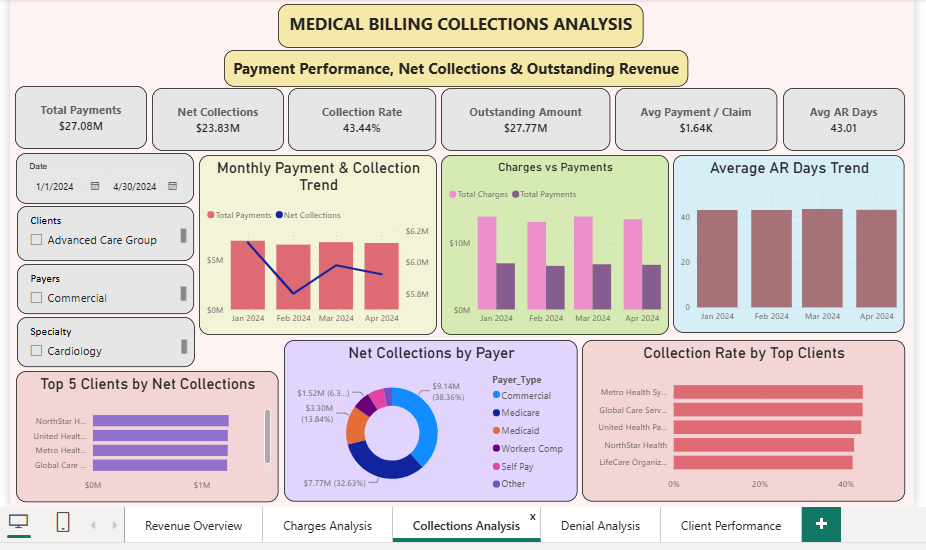

What the dashboard file says about the page in this screenshot:
{"tool":"powerbi","page":{"name":"Collections Analysis","canvas":[1280,720],"ordinal":2},"visuals":[{"type":"textbox","box":[380.2,7.2,518.4,61.9],"z":0},{"type":"textbox","box":[303.8,72,658.1,51.8],"z":1000},{"type":"cardVisual","fields":{"Data":["_Measures.Total Payments"]},"box":[7.2,123.8,187.2,89.3],"z":2000},{"type":"cardVisual","fields":{"Data":["_Measures.Net Collections"]},"box":[201.6,126.7,187.2,89.3],"z":3000},{"type":"cardVisual","fields":{"Data":["_Measures.Collection Rate %"]},"box":[394.6,126.7,210.2,89.3],"z":4000},{"type":"cardVisual","fields":{"Data":["_Measures.Gross Outstanding"]},"box":[610.6,126.7,240.5,89.3],"z":5000},{"type":"cardVisual","fields":{"Data":["_Measures.Average Payment per Claim"]},"box":[856.8,126.7,230.4,89.3],"z":6000},{"type":"cardVisual","fields":{"Data":["_Measures.Avg AR Days"]},"box":[1095.8,126.7,172.8,89.3],"z":7000},{"type":"slicer","fields":{"Values":["Dim_Date.Year_Month"]},"box":[8.6,218.9,252,72],"z":8000},{"type":"slicer","fields":{"Values":["Dim_Client.Client_Name"]},"box":[10.1,293.8,250.6,77.8],"z":9000},{"type":"slicer","fields":{"Values":["Dim_Payer.Payer_Type"]},"box":[10.1,375.8,250.6,70.6],"z":10000},{"type":"slicer","fields":{"Values":["Dim_Specialty.Specialty"]},"box":[10.1,450.7,252,70.6],"z":11000},{"type":"lineClusteredColumnComboChart","title":"Monthly Payment & Collection Trend","fields":{"Category":["Dim_Date.Year_Month"],"Y":["_Measures.Total Payments"],"Y2":["_Measures.Net Collections"]},"box":[267.8,221.8,337,254.9],"z":12000},{"type":"clusteredColumnChart","title":"Charges vs Payments","fields":{"Category":["Dim_Date.Year_Month"],"Y":["_Measures.Total Charges","_Measures.Total Payments"]},"box":[610.6,221.8,322.6,254.9],"z":13000},{"type":"donutChart","title":"Net Collections by Payer","fields":{"Category":["Dim_Payer.Payer_Type"],"Y":["_Measures.Net Collections"]},"box":[388.8,483.8,416.2,229],"z":14000},{"type":"clusteredBarChart","title":"Top 5 Clients by Net Collections","fields":{"Category":["Dim_Client.Client_Name"],"Y":["_Measures.Net Collections"]},"box":[8.6,527,371.5,185.8],"z":15000},{"type":"barChart","title":"Collection Rate by Top Clients","fields":{"Category":["Dim_Client.Client_Name"],"Y":["_Measures.Collection Rate %"]},"box":[810.7,483.8,457.9,229],"z":16000},{"type":"columnChart","title":"Average AR Days Trend","fields":{"Category":["Dim_Date.Year_Month"],"Y":["_Measures.Avg AR Days"]},"box":[940.3,221.8,328.3,252],"z":17000}]}

Visuals, with their boxes in screenshot pixels (x1, y1, x2, y2):
textbox: [left=274, top=0, right=644, bottom=44]
textbox: [left=219, top=47, right=689, bottom=84]
cardVisual - _Measures.Total Payments: [left=8, top=84, right=141, bottom=147]
cardVisual - _Measures.Net Collections: [left=146, top=86, right=280, bottom=149]
cardVisual - _Measures.Collection Rate %: [left=284, top=86, right=434, bottom=149]
cardVisual - _Measures.Gross Outstanding: [left=438, top=86, right=610, bottom=149]
cardVisual - _Measures.Average Payment per Claim: [left=614, top=86, right=778, bottom=149]
cardVisual - _Measures.Avg AR Days: [left=784, top=86, right=907, bottom=149]
slicer - Dim_Date.Year_Month: [left=9, top=151, right=188, bottom=203]
slicer - Dim_Client.Client_Name: [left=10, top=205, right=188, bottom=260]
slicer - Dim_Payer.Payer_Type: [left=10, top=263, right=188, bottom=314]
slicer - Dim_Specialty.Specialty: [left=10, top=317, right=189, bottom=367]
"Monthly Payment & Collection Trend" lineClusteredColumnComboChart: [left=193, top=153, right=434, bottom=335]
"Charges vs Payments" clusteredColumnChart: [left=438, top=153, right=668, bottom=335]
"Net Collections by Payer" donutChart: [left=280, top=340, right=577, bottom=504]
"Top 5 Clients by Net Collections" clusteredBarChart: [left=9, top=371, right=274, bottom=504]
"Collection Rate by Top Clients" barChart: [left=581, top=340, right=907, bottom=504]
"Average AR Days Trend" columnChart: [left=673, top=153, right=907, bottom=333]
